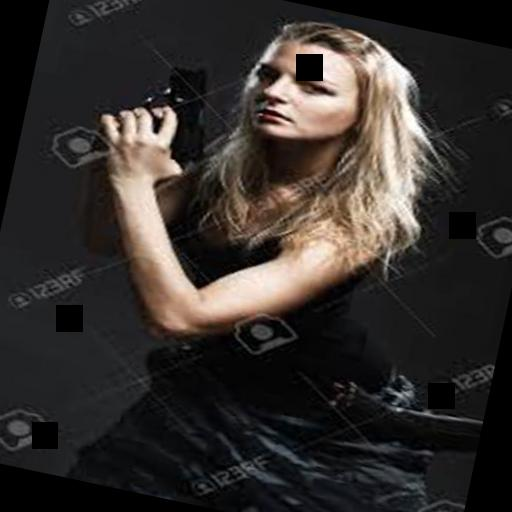Handgun: (96, 34, 219, 168)
